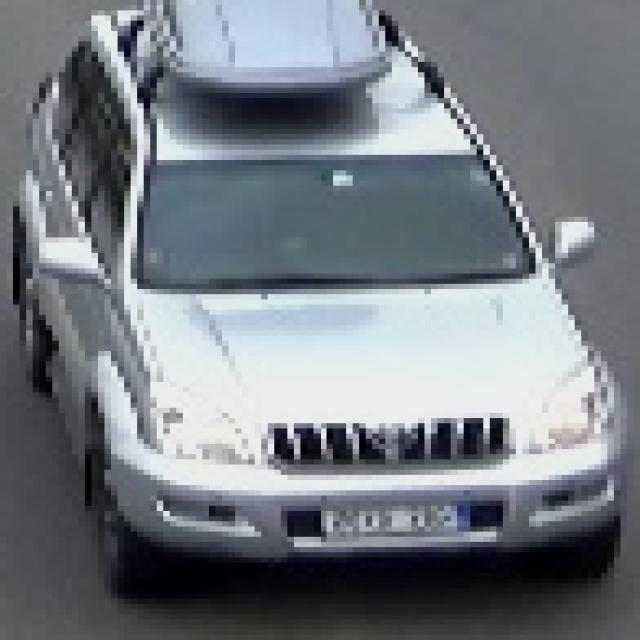SUV: (30, 10, 608, 584)
